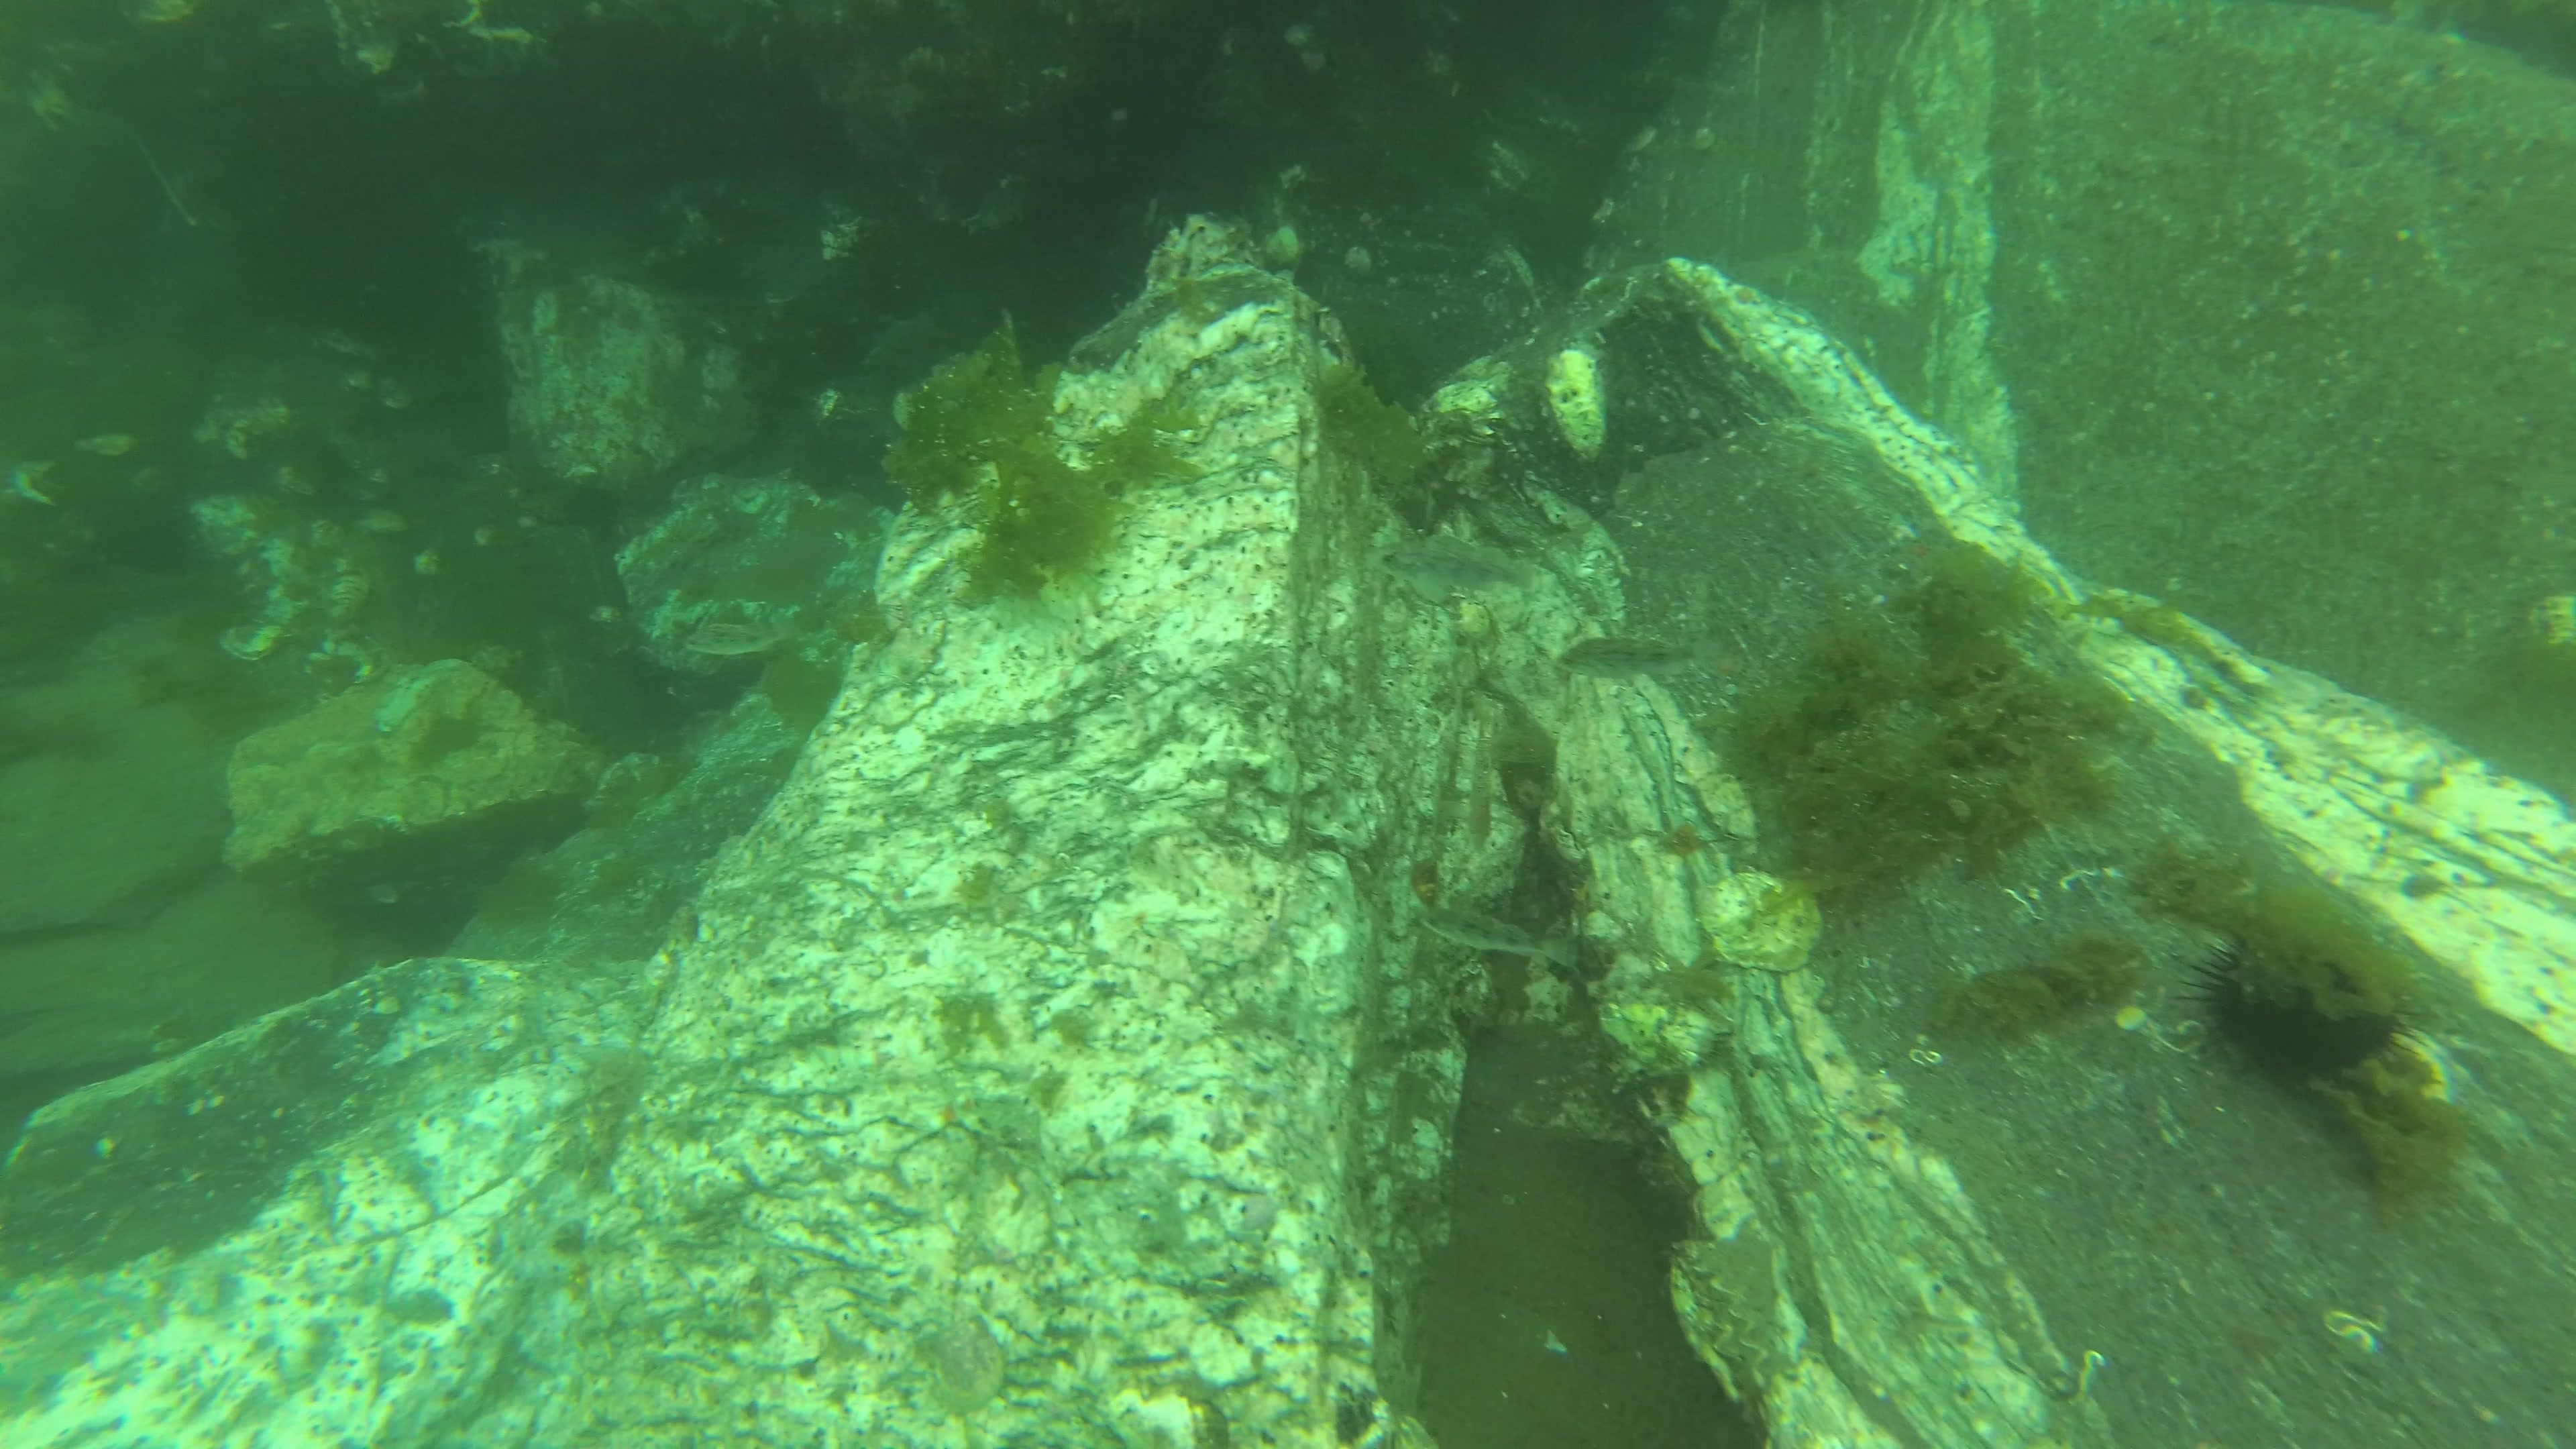echinus: (2187, 924, 2427, 1093)
